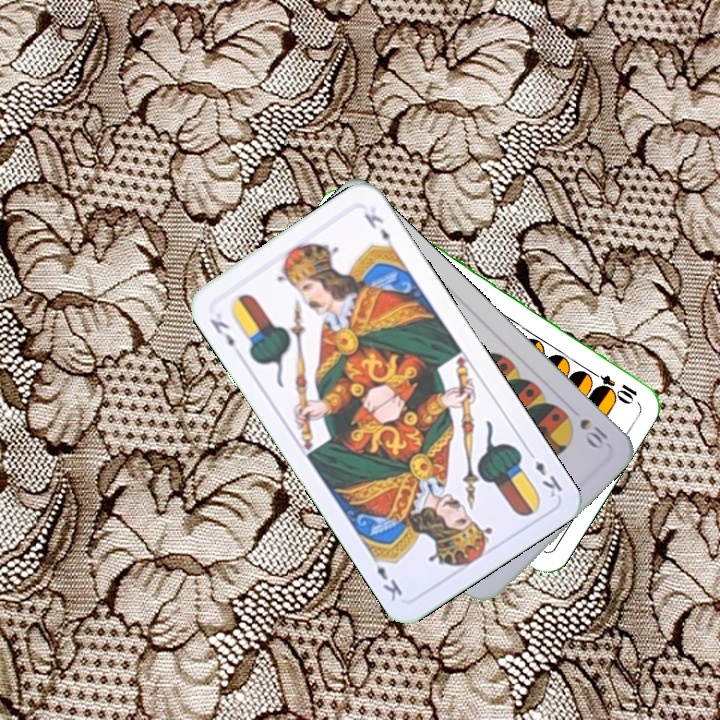E10: (584, 366, 640, 404)
EK: (523, 445, 565, 500), (205, 314, 237, 350)
S10: (575, 414, 613, 452)
